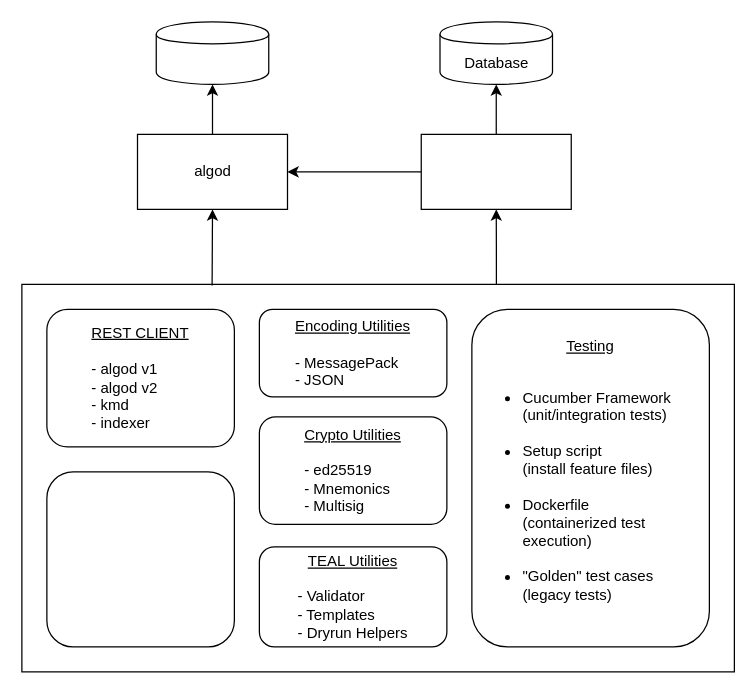
This 756x694 diagram has some shape labels left out. The shapes that lost their labels are listed below. From the top down, each one's centre as x and y in pixels, then its label:
At [212,52]: "Blockchain".
At [495,171]: "Indexer".
At [140,559]: "Transaction Utils - Payment - Key Registration - Asset Config - etc".
